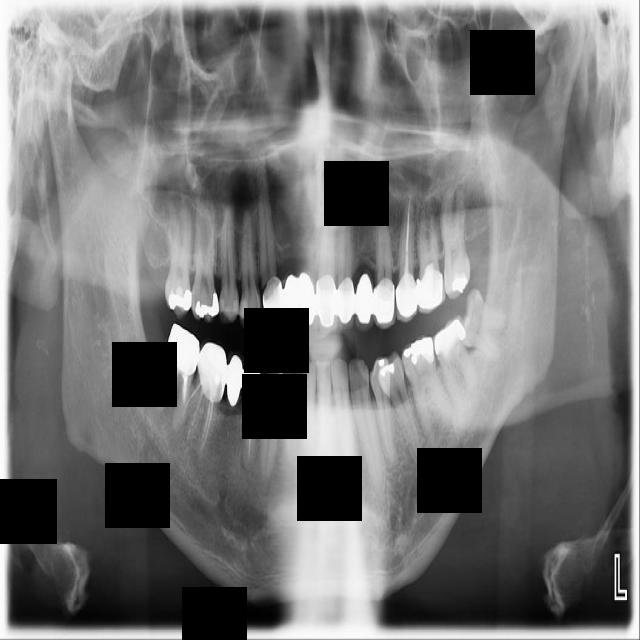52: (426, 313, 474, 364), (395, 332, 443, 383), (162, 323, 204, 377), (195, 338, 228, 404), (371, 356, 416, 401), (294, 267, 319, 340), (313, 275, 339, 336), (260, 276, 285, 338), (414, 268, 447, 314), (442, 251, 470, 300), (190, 280, 220, 325), (394, 272, 419, 324), (373, 277, 396, 329), (335, 277, 356, 332), (165, 273, 191, 317), (241, 359, 262, 412), (369, 356, 391, 398), (263, 360, 283, 400)
73: (173, 366, 227, 455), (150, 358, 197, 434), (396, 191, 425, 289), (241, 404, 258, 471), (587, 578, 590, 593)
BioHorizons Implant: (437, 184, 472, 301)
Biomet 3i Implant: (454, 286, 512, 364)
Blue Sky Bio Implant: (427, 313, 486, 416)
Caries: (159, 199, 198, 321)
Implant: (150, 322, 205, 435)
